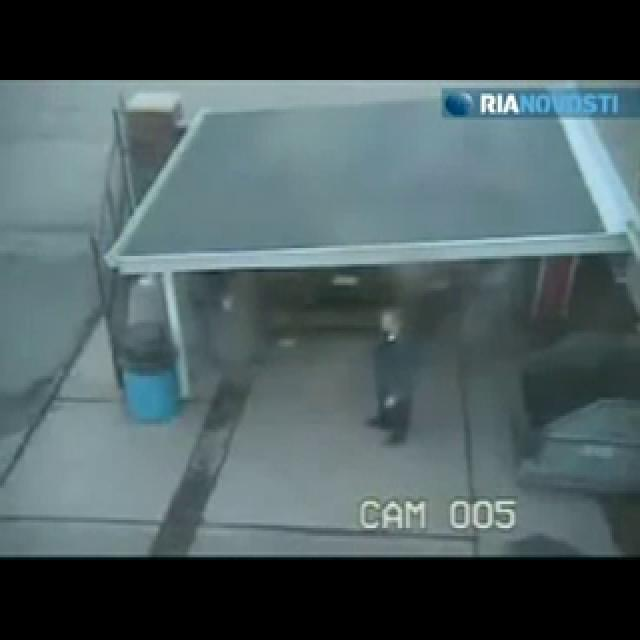explosion: (94, 212, 528, 487)
